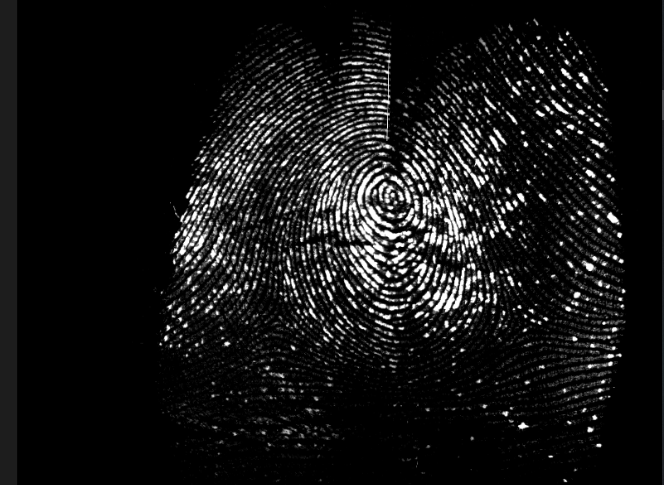nucelo: (371, 169, 410, 217)
verticilo: (492, 303, 532, 329), (260, 295, 288, 323)
